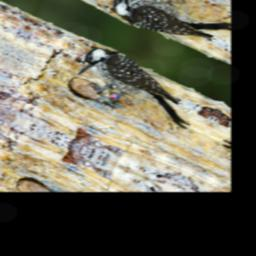Woodpecker: (69, 40, 207, 138)
